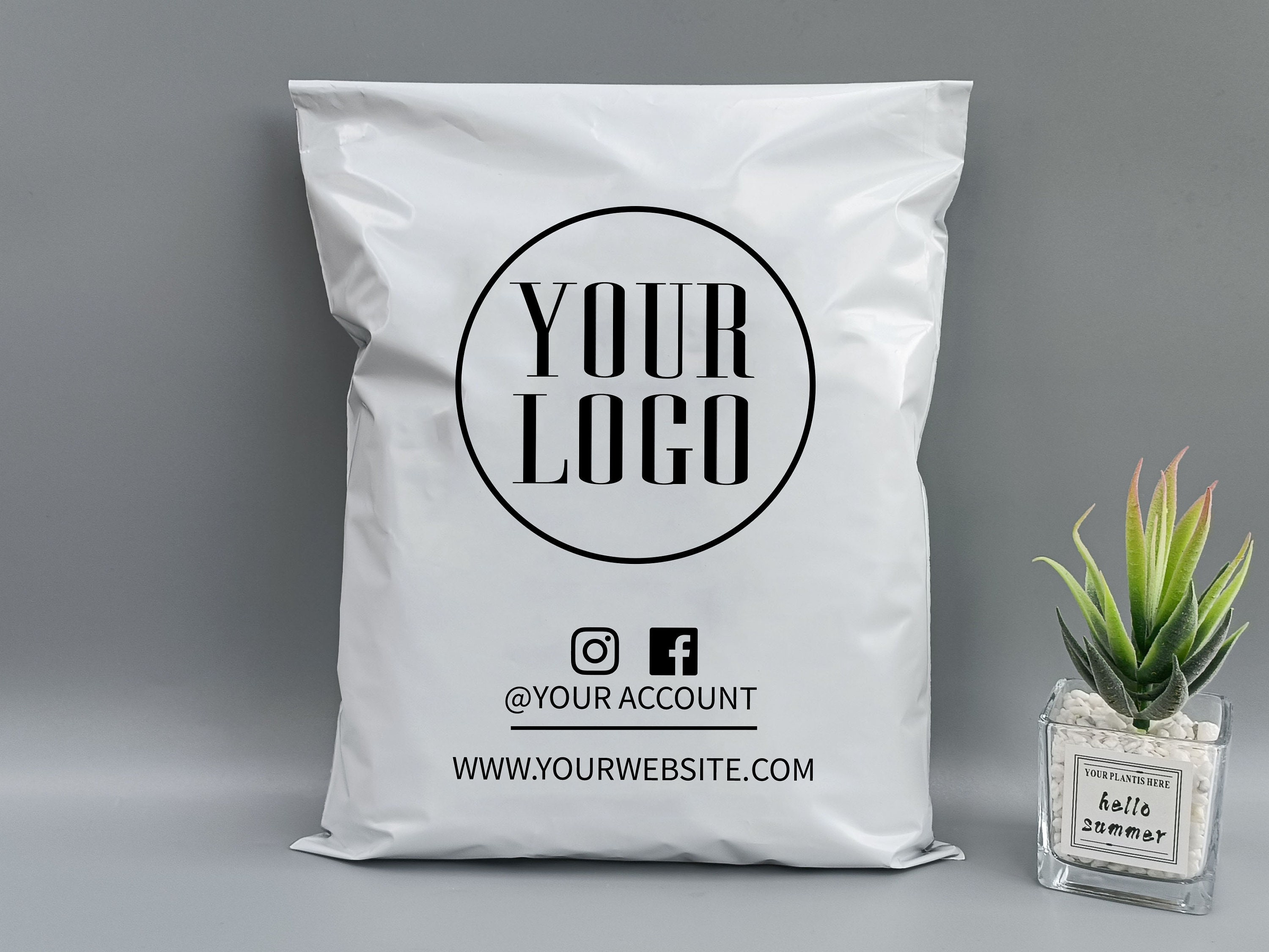塑料袋: (291, 83, 969, 867)
